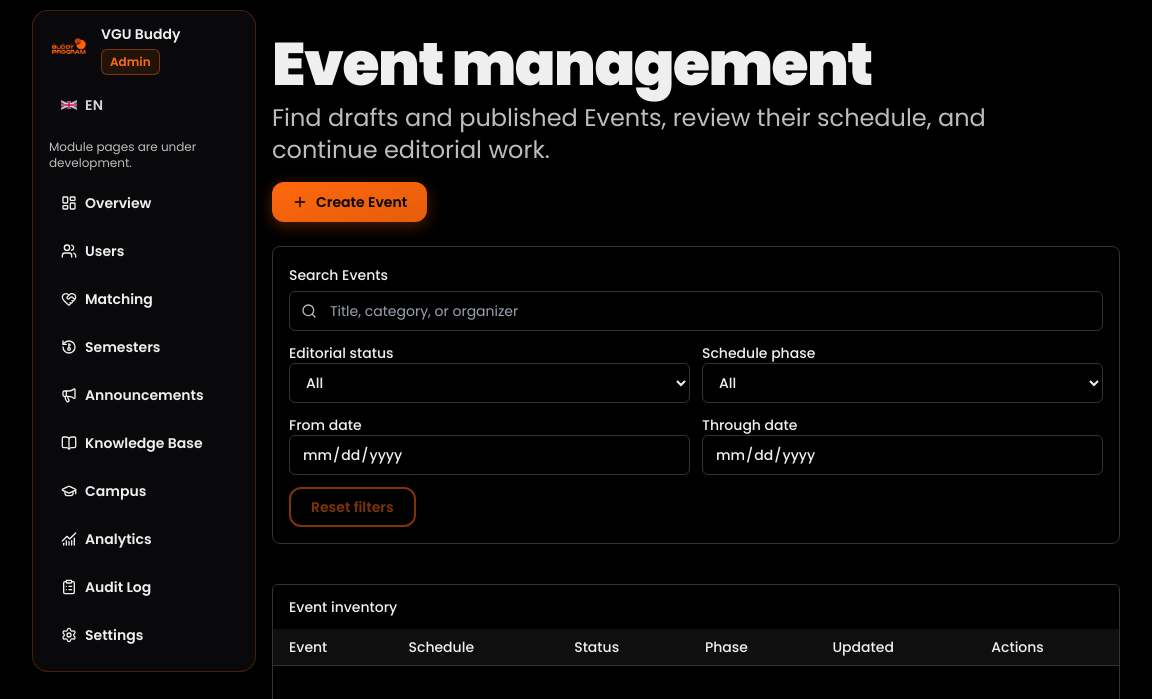
it: ADMIN-006 guarded Admin Event inventory › distinguishes loading, true empty, filtered empty, and safe failure states
Select "Draft" in the dropdown labelled "Editorial status". click: (490, 383)
box: top-left (289, 363), bottom-right (690, 403)
(page scrolled)
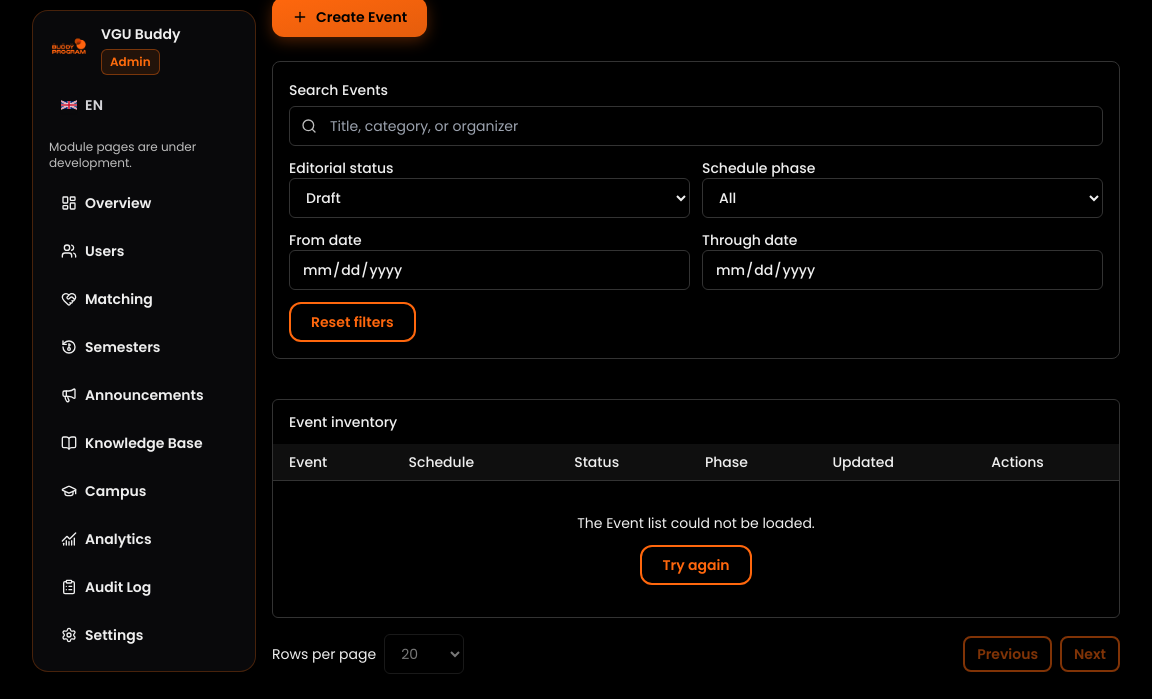
Result: the message reads "The Event list could not be loaded." at top-left (577, 513), bottom-right (815, 533)
Click the button "Try again". click: click(696, 565)
box: top-left (640, 545), bottom-right (752, 585)
(page scrolled)
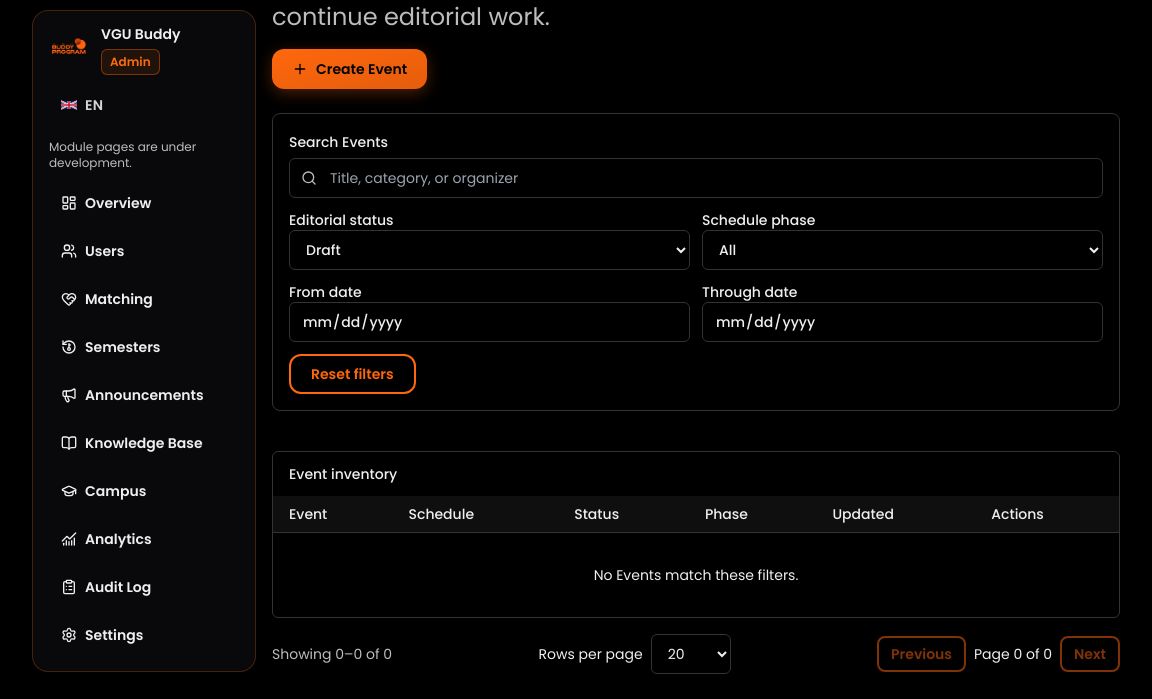
Result: the text "No Events match these filters." is shown at top-left (594, 565), bottom-right (798, 585)
